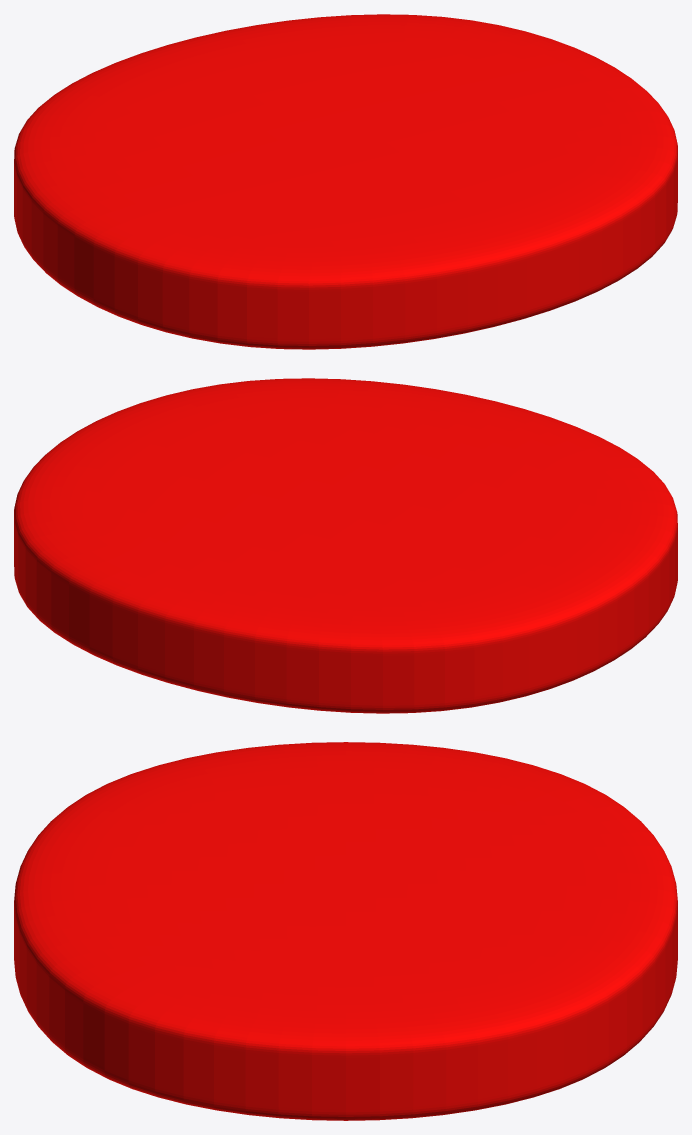
The model's file is beef.gltf.
3 views of the same model, one above another, from view 1: azimuth 30°, elevation 25°; view 2: azimuth 150°, elevation 25°; view 3: azimuth 270°, elevation 25° (orthographic). The views are drawn at different scales.
Visible parts, largest first — view 1: Cube.003; view 2: Cube.003; view 3: Cube.003.
Boxes of the visible parts, x1=… form: Cube.003: x1=14, y1=14, x2=677, y2=349; Cube.003: x1=14, y1=378, x2=677, y2=713; Cube.003: x1=14, y1=742, x2=677, y2=1120.
Bounding box in the file's own units: 2.12 × 0.3227 × 1.94.
